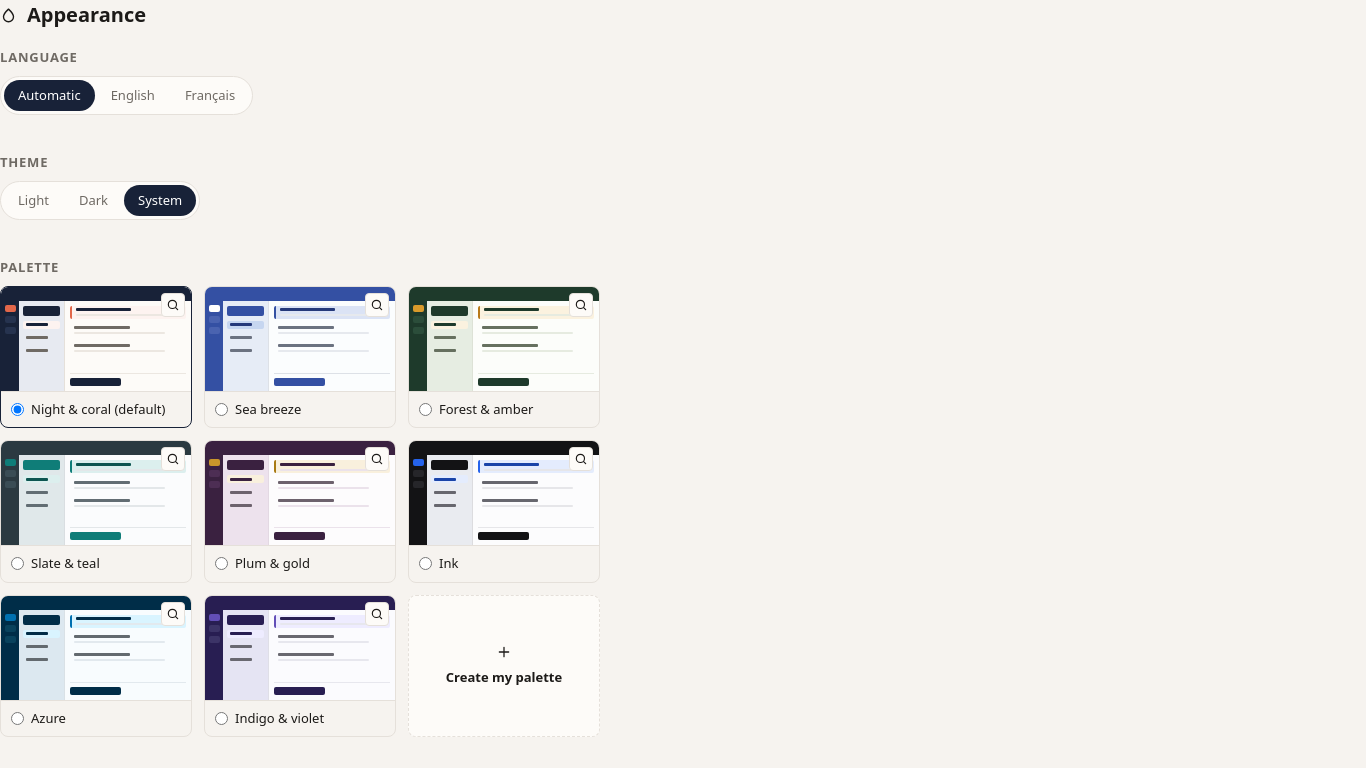
Scenario: AppearancePage — my palette › saves the draft and selects it
Click the button "Create my palette". click: {"x": 504, "y": 666}
box: x1=408 y1=594 x2=600 y2=737
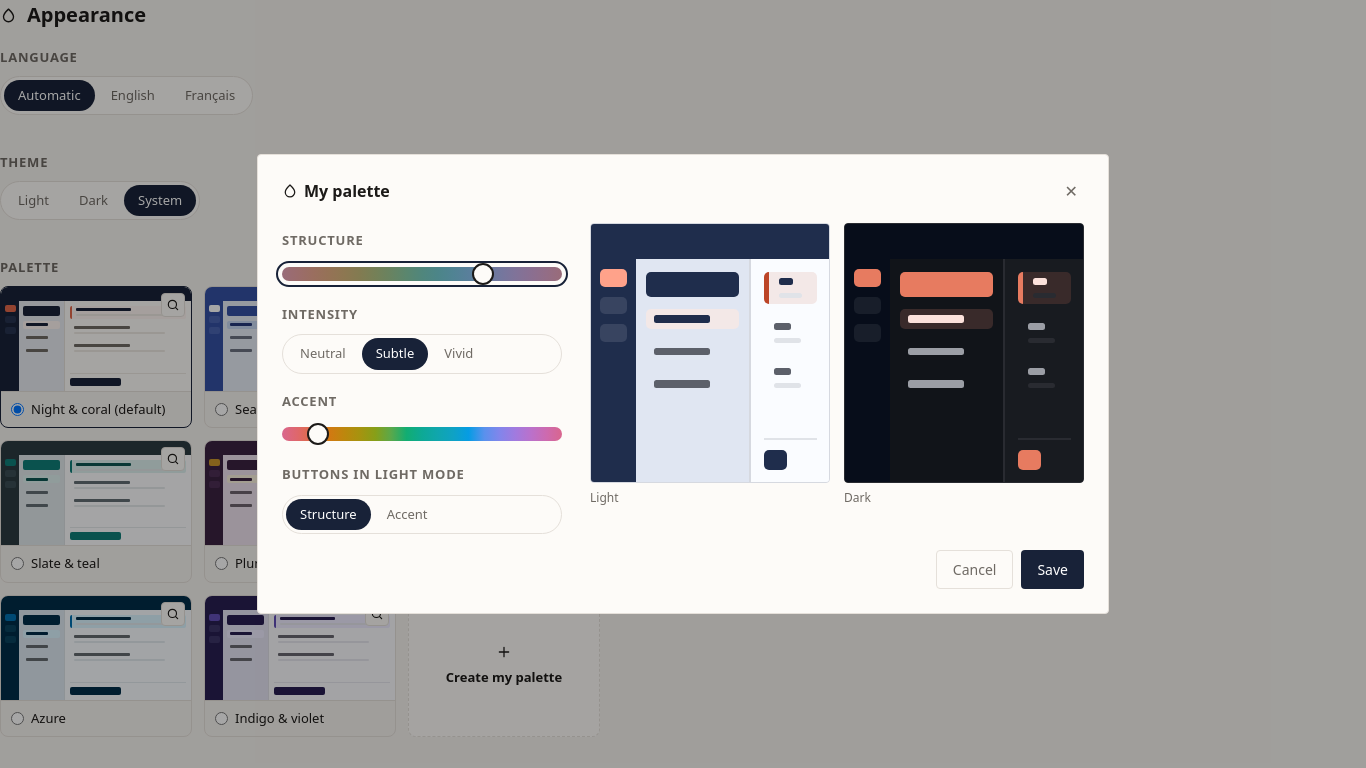
Set the slider labelled "Accent" to "200". click: {"x": 437, "y": 434}
box: x1=282 y1=427 x2=562 y2=441
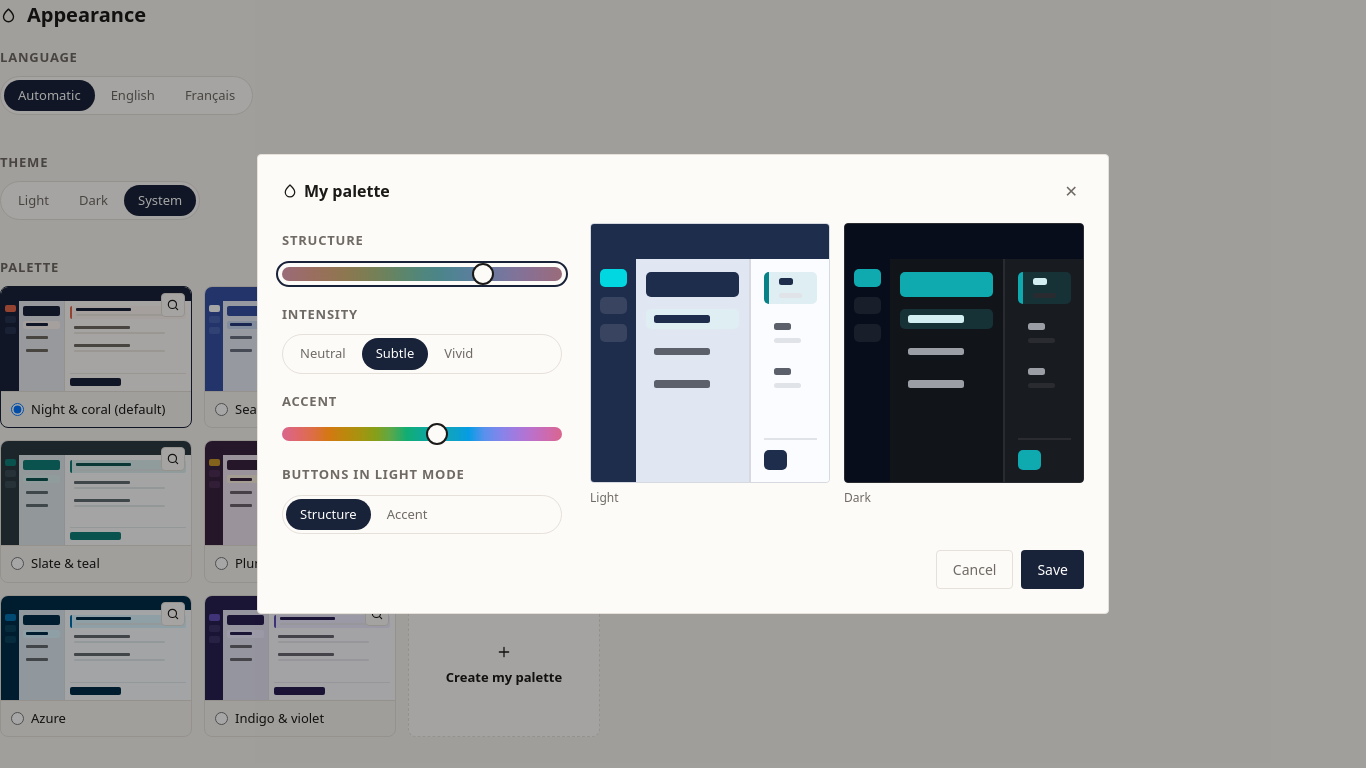
Click the radio button labelled "Vivid". click: {"x": 459, "y": 353}
box: x1=444 y1=344 x2=473 y2=362
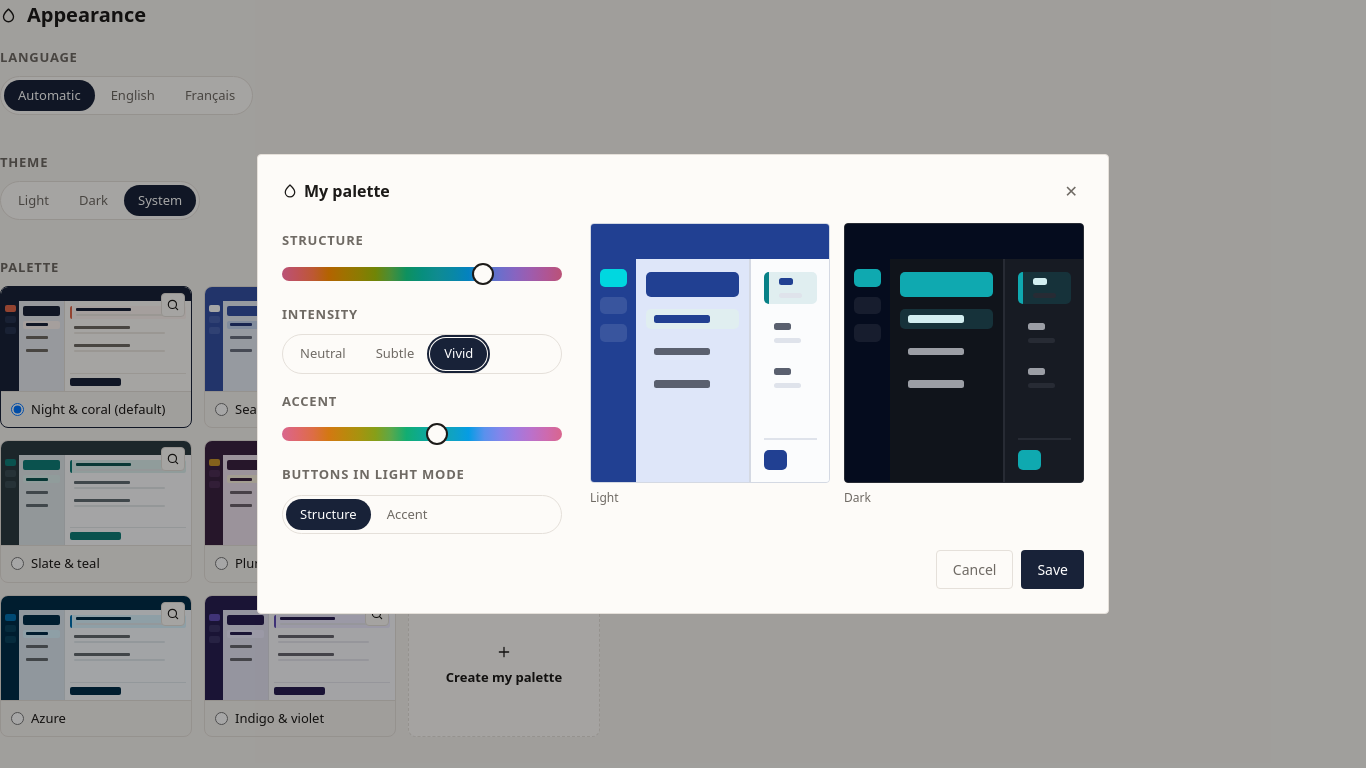
Click the button "Save". click: {"x": 1053, "y": 570}
box: x1=1021 y1=550 x2=1084 y2=589
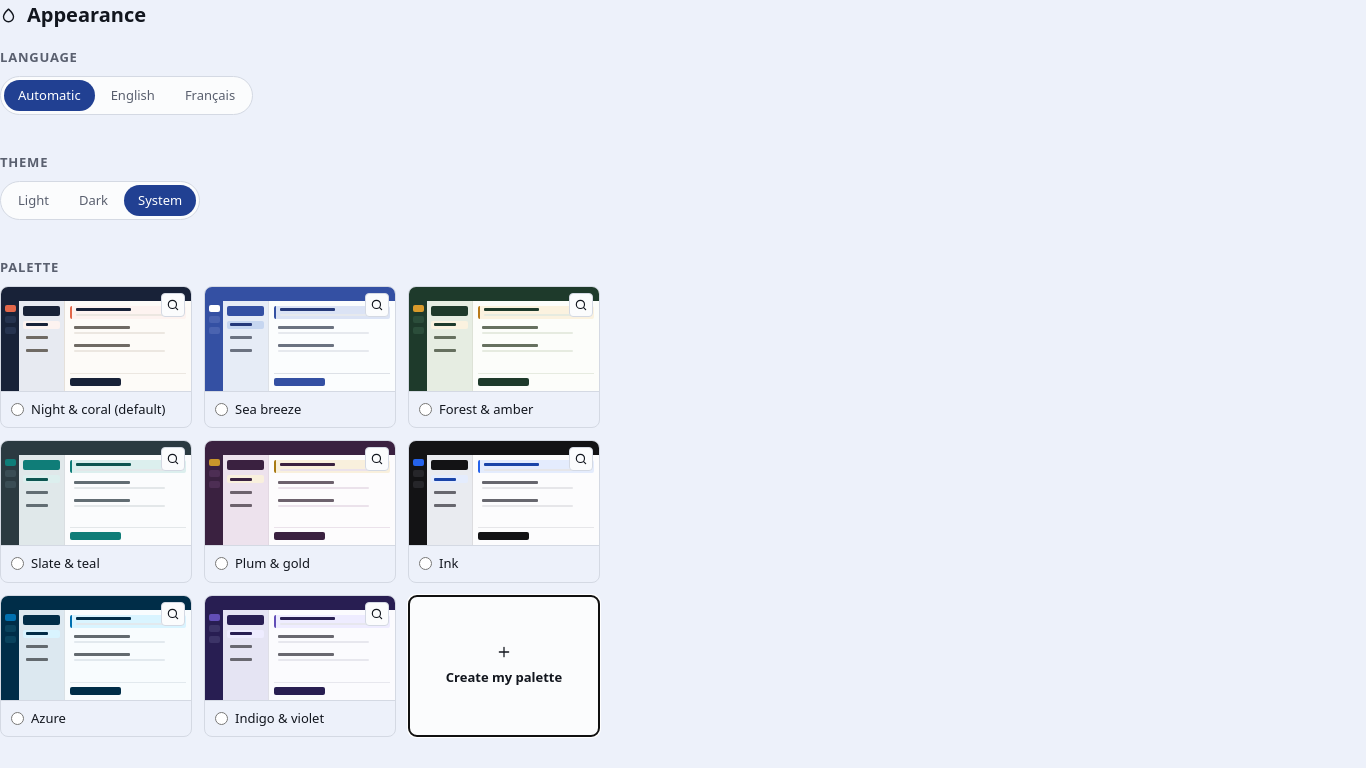
Expected: the dialog is gone
